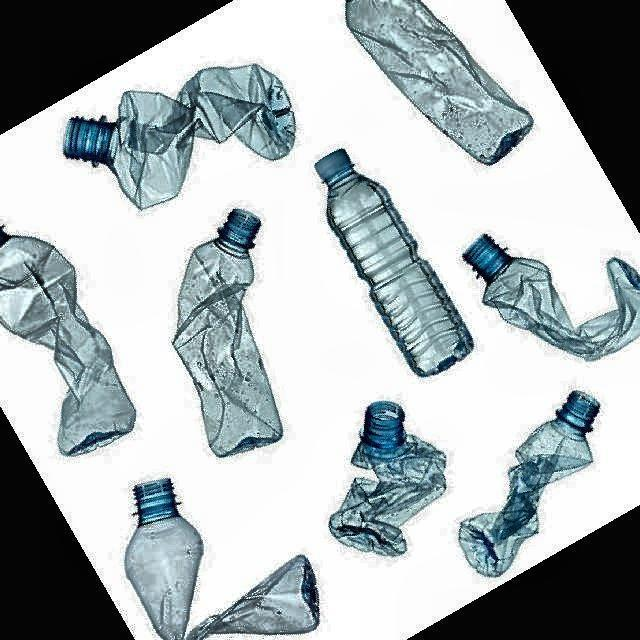plastic: (315, 150, 472, 376), (64, 65, 295, 208), (126, 479, 319, 640), (0, 228, 135, 455), (348, 0, 532, 164), (174, 209, 282, 456), (459, 392, 599, 576), (464, 235, 640, 360), (329, 401, 445, 555)
